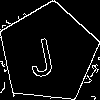J: (23, 28, 57, 79)
